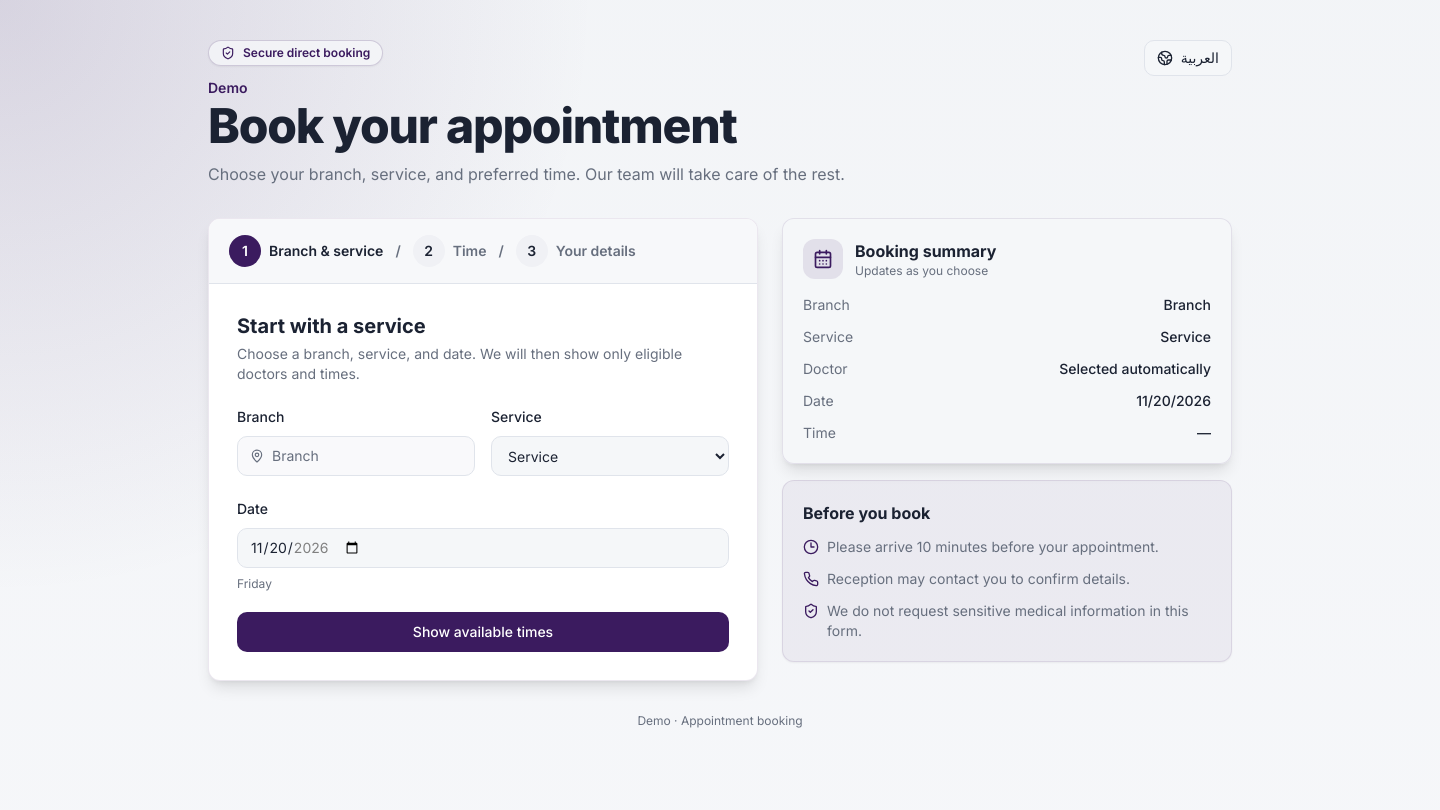
PublicBooking availability failures › retries successfully and distinguishes a genuinely empty response
Click the button "Show available times".
click(483, 632)  # box [237, 612, 729, 652]
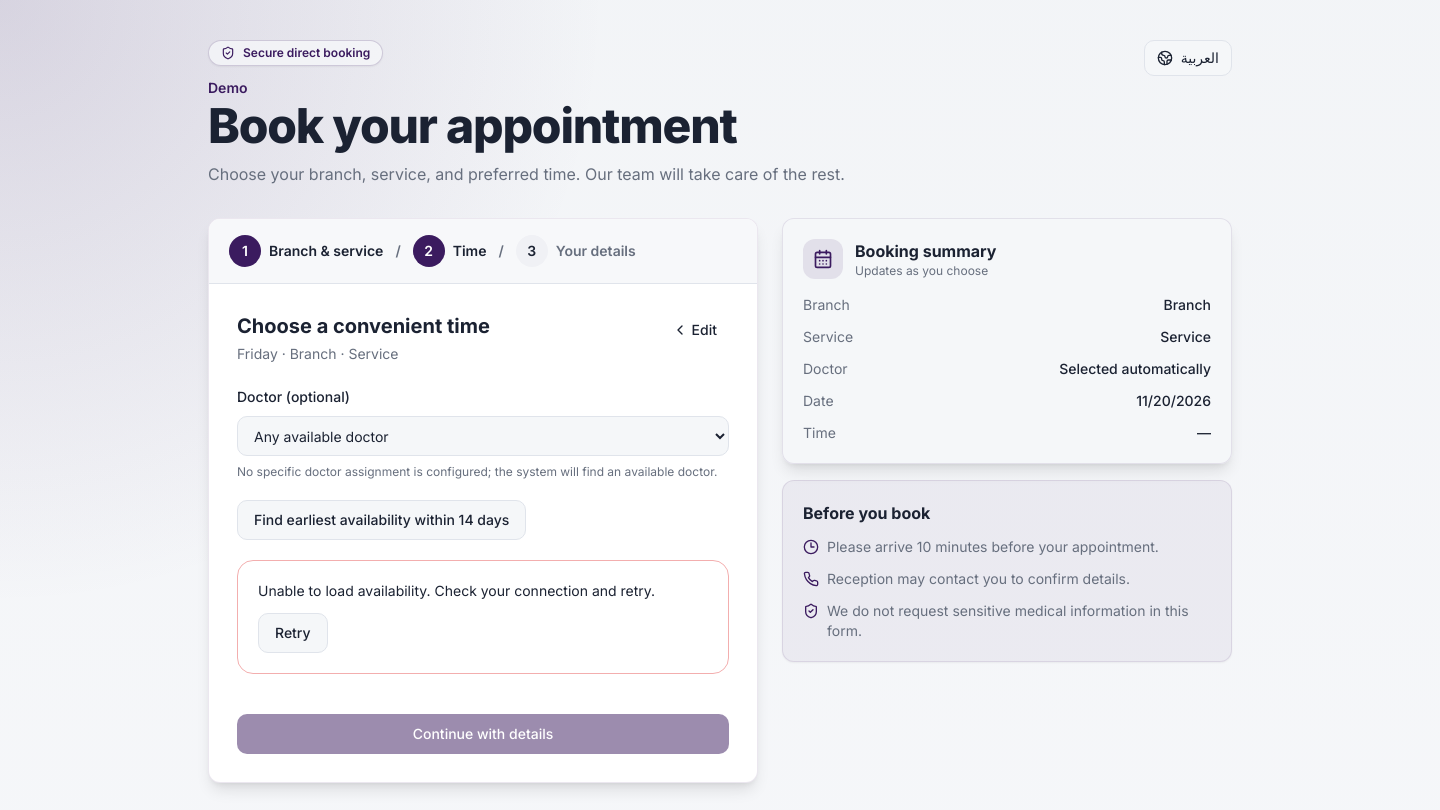
Expected: the message "Unable to load availability. Check your connection and retry. Retry" is shown, [237, 560, 729, 674]
Click the button "Retry".
click(293, 633)  # box [258, 613, 328, 653]
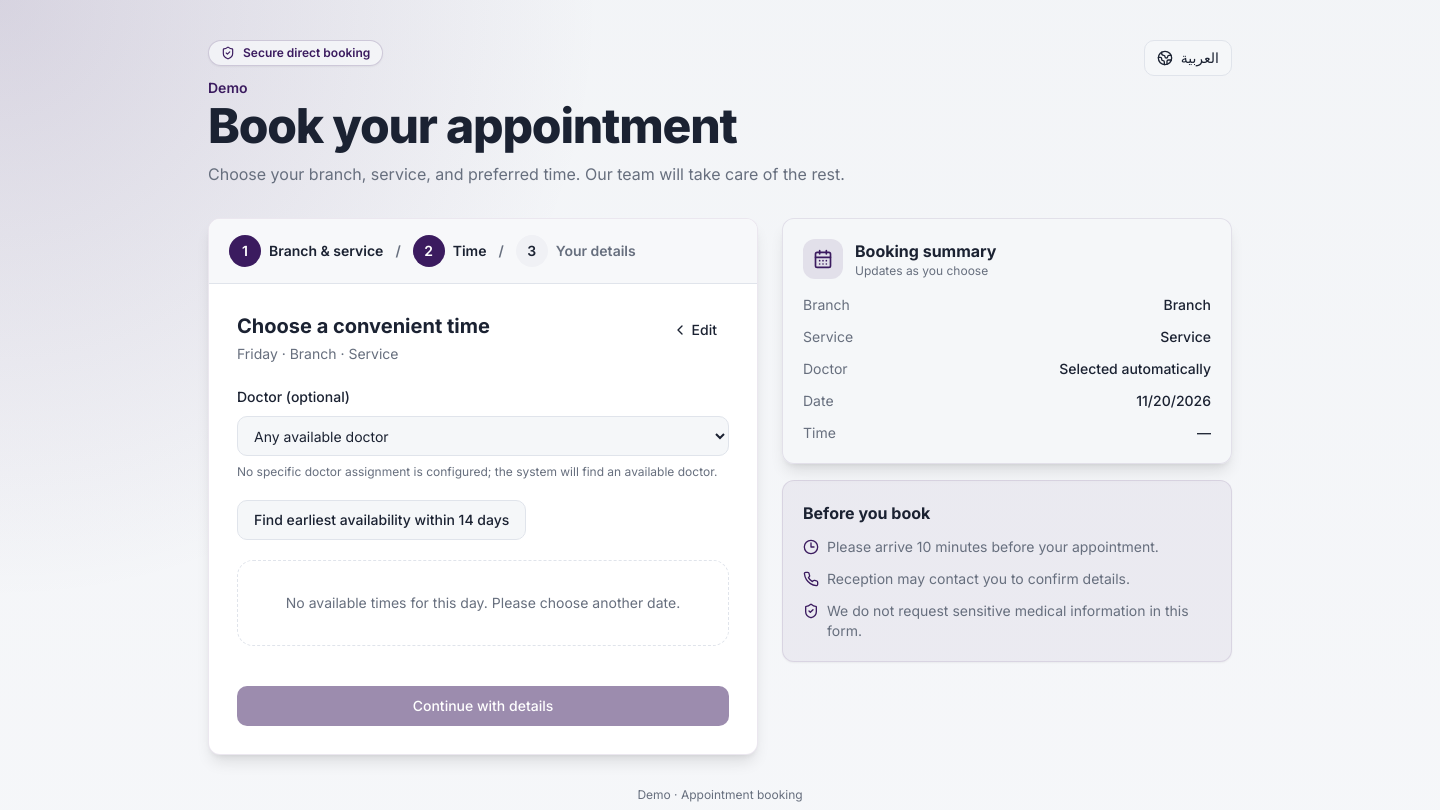
Expected: the message "Unable to load availability. Check your connection and retry. Retry" is gone
Expected: the text "No available times for this day. Please choose another date." is shown, [237, 560, 729, 646]
